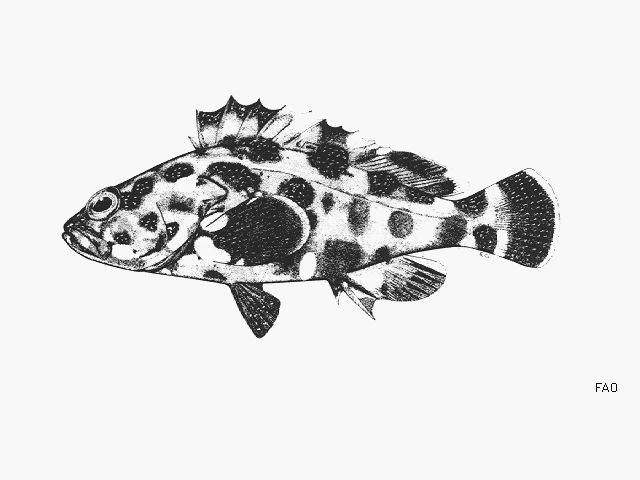fish: (61, 95, 561, 340)
